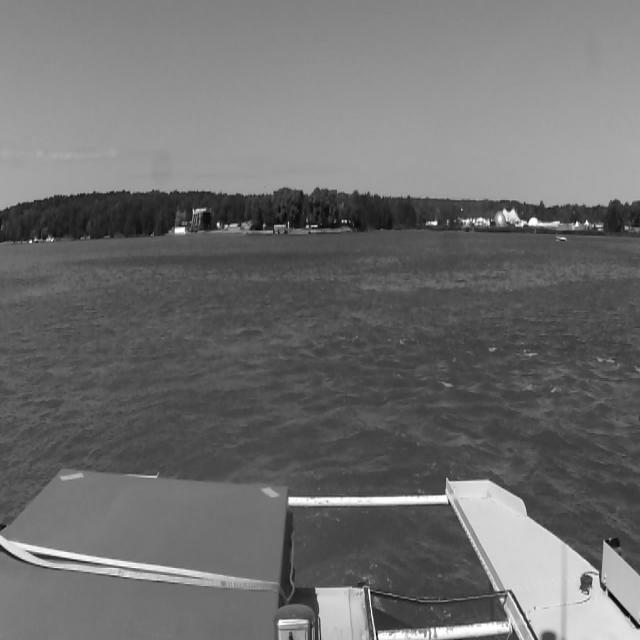ship: (556, 235, 567, 241)
